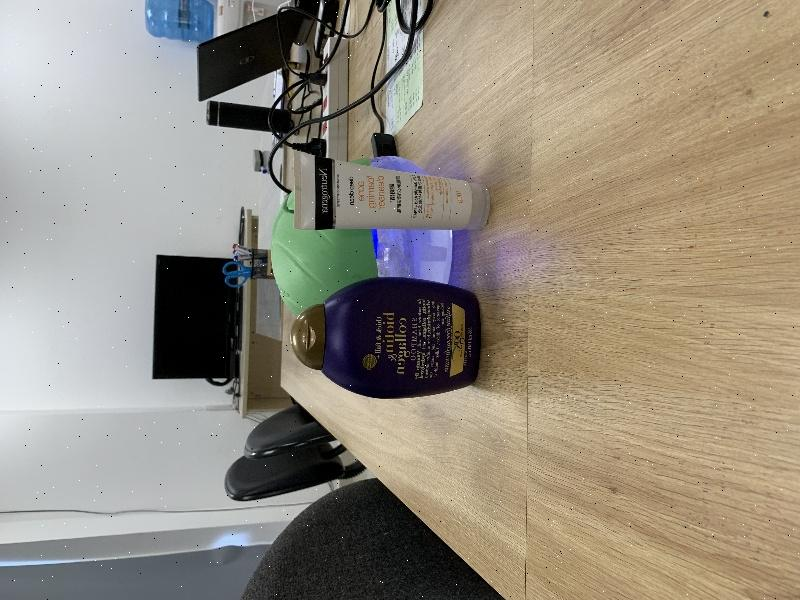AcneFoamingCleanser: (293, 149, 490, 230)
BiotinCollagen_Shampoo: (290, 277, 480, 399)
